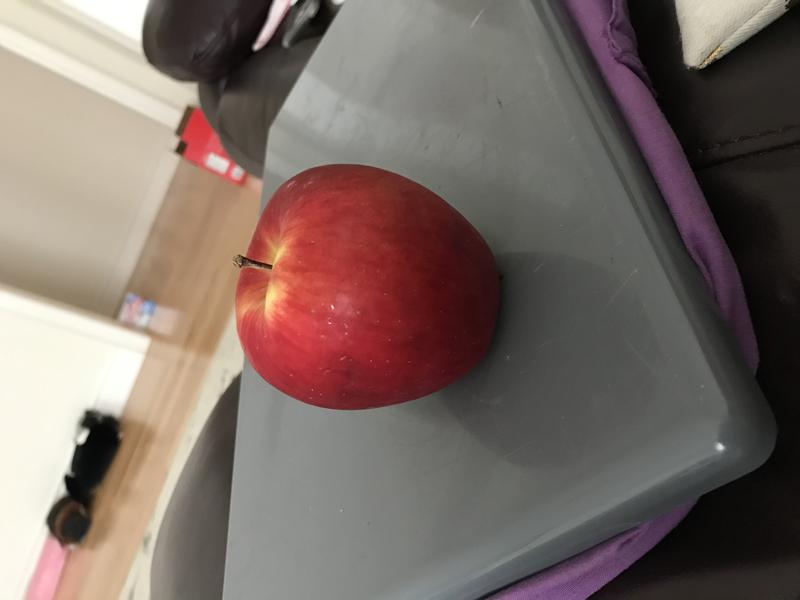red_apple: (216, 154, 517, 424)
